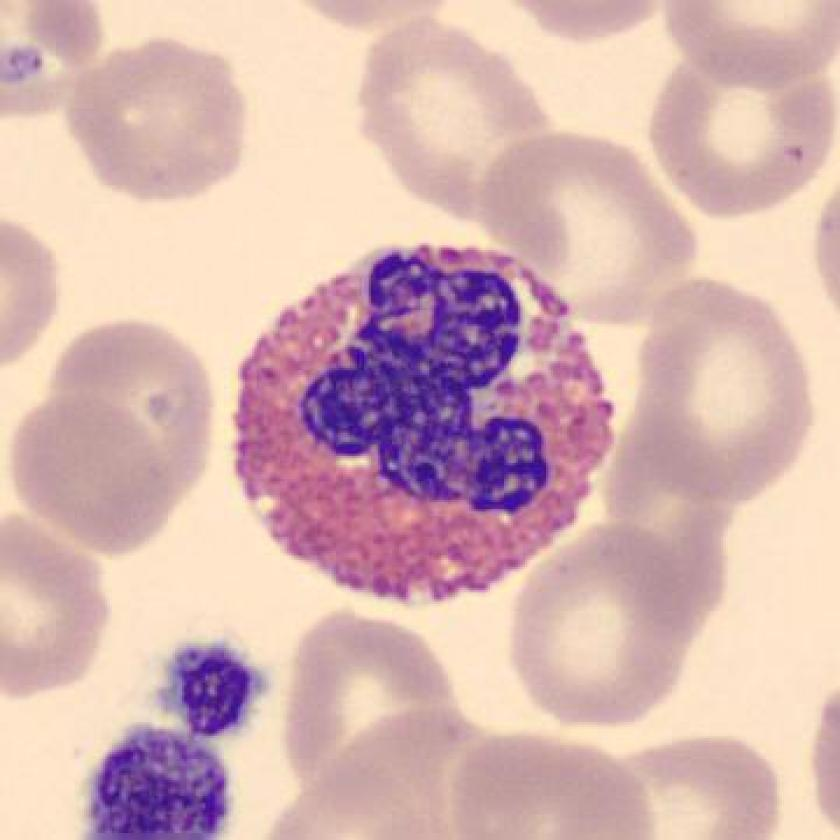eosinophil: (225, 233, 626, 615)
